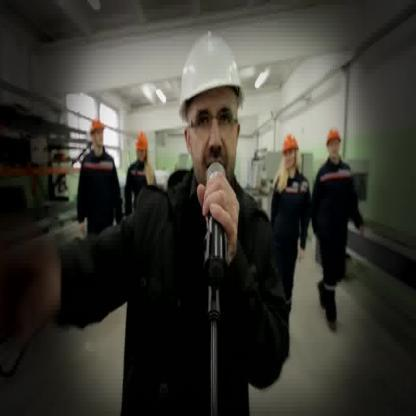helmet: (178, 30, 247, 127), (134, 131, 150, 150), (282, 135, 300, 151), (88, 118, 106, 130), (327, 130, 342, 144)
vest: (311, 161, 364, 318), (270, 172, 312, 308), (77, 152, 124, 232), (123, 160, 160, 206)
